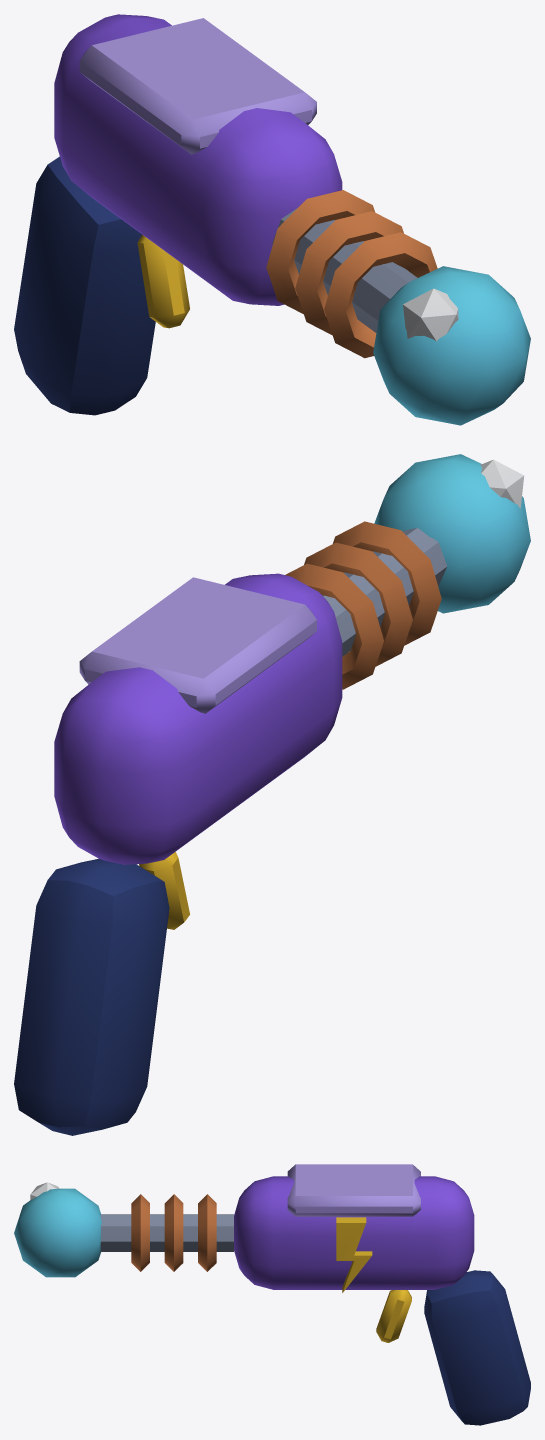
The model's file is w_a_zapper.glb.
3 views of the same model, one above another, from view 1: azimuth 30°, elevation 25°; view 2: azimuth 150°, elevation 25°; view 3: azimuth 270°, elevation 25° (orthographic). The views are drawn at different scales.
Visible parts, largest first — view 1: body; view 2: body; view 3: body.
Boxes of the visible parts, <box> form: body: <box>14,14,530,425</box>; body: <box>14,454,530,1135</box>; body: <box>14,1164,530,1425</box>.
Bounding box in the file's own units: 0.0814 × 0.2197 × 0.4262.
